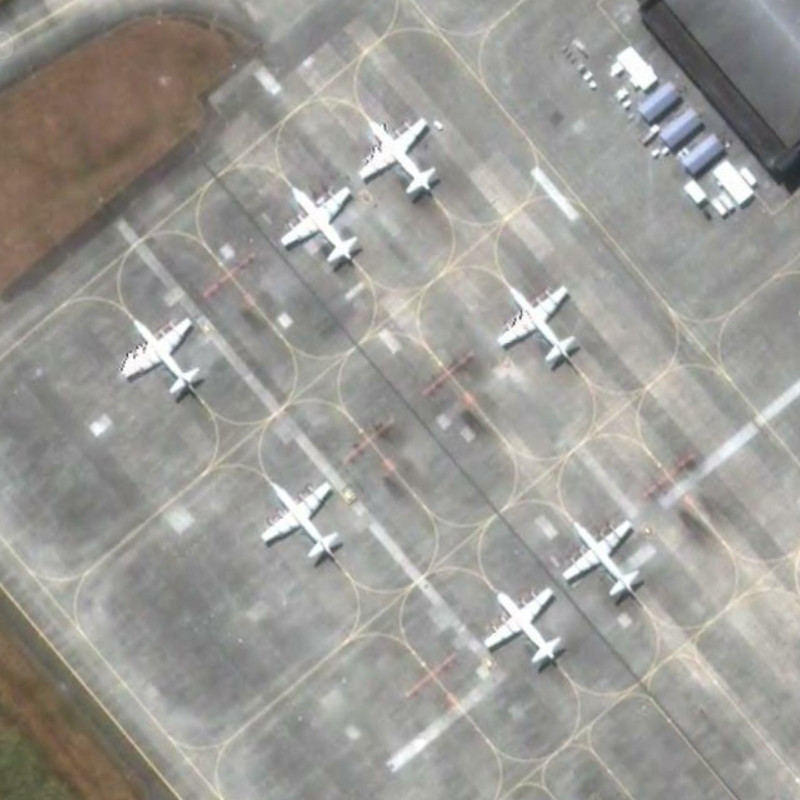A9: (491, 273, 587, 379), (112, 305, 207, 408), (351, 103, 446, 204), (476, 574, 570, 673), (258, 472, 349, 572), (275, 178, 368, 272), (556, 511, 647, 606)
